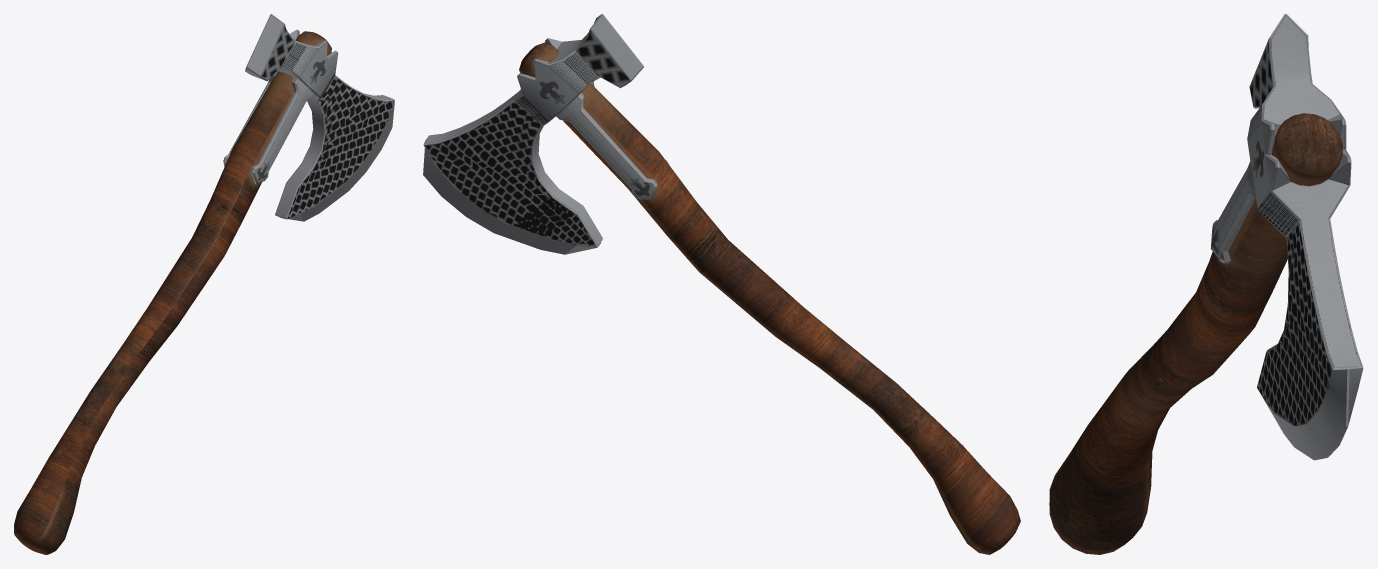
File: axe.obj
The picture shows the model from 3 angles, left to right: view 1: azimuth 30°, elevation 25°; view 2: azimuth 150°, elevation 25°; view 3: azimuth 270°, elevation 25°; orthographic projection. The views are drawn at different scales.
Parts seen in each view (by area): view 1: axe_axe_03; view 2: axe_axe_03; view 3: axe_axe_03.
Boxes of the visible parts, x1,y1,x2,y2 form: axe_axe_03: (14, 14, 394, 554); axe_axe_03: (423, 14, 1020, 554); axe_axe_03: (1049, 14, 1363, 554).
Bounding box in the file's own units: 0.1306 × 0.1217 × 0.044.
Materials: 1 (1 with a texture image).
